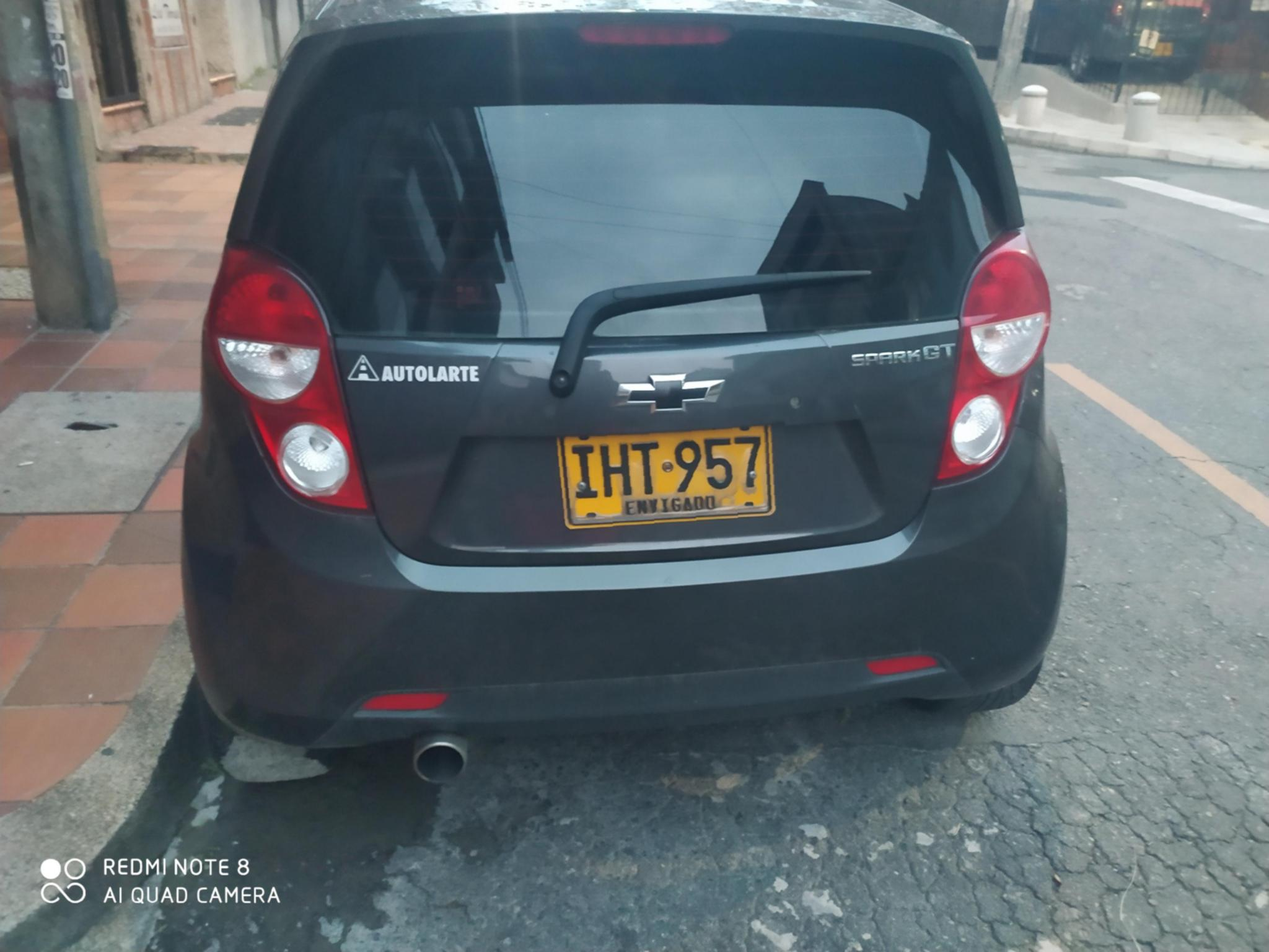placa: (543, 420, 785, 532)
